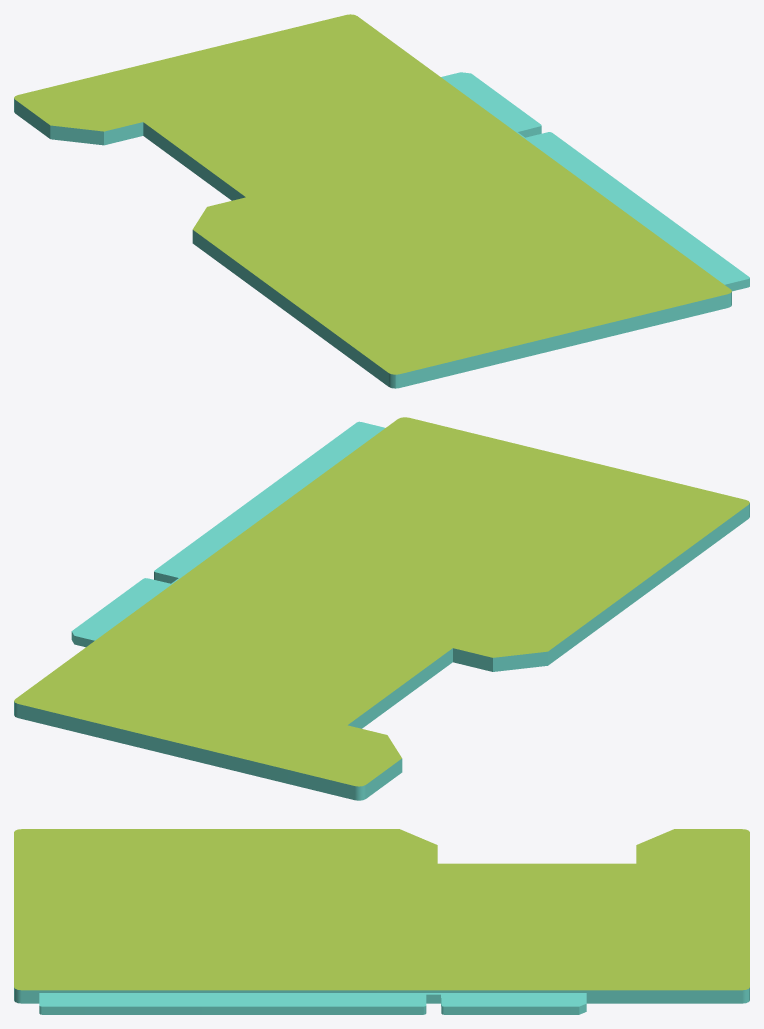
The model's file is PCI_Board_C.fbx.
3 renders of one model, top to bottom at view 1: azimuth 30°, elevation 25°; view 2: azimuth 150°, elevation 25°; view 3: azimuth 270°, elevation 25°, orthographic. The views are drawn at different scales.
Parts seen in each view (by area): view 1: PCI_Board_C; view 2: PCI_Board_C; view 3: PCI_Board_C.
Boxes of the visible parts, x1,y1,x2,y2 form: PCI_Board_C: (14, 14, 749, 388); PCI_Board_C: (14, 417, 749, 800); PCI_Board_C: (14, 829, 749, 1014).
Size of the model in its own units: 28.12 by 1 by 50.
